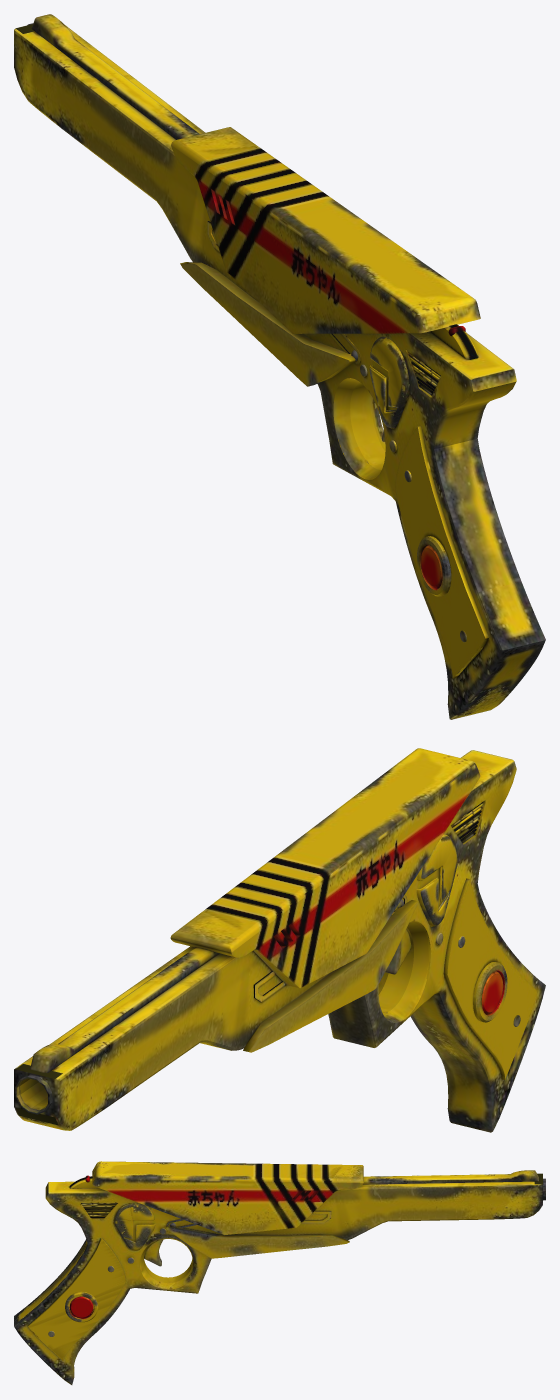
The model's file is Metallic-RougnessPBR-Gun.gltf.
The picture shows the model from 3 angles, top to bottom: view 1: azimuth 30°, elevation 25°; view 2: azimuth 150°, elevation 25°; view 3: azimuth 270°, elevation 25°; orthographic projection. The views are drawn at different scales.
Visible parts, largest first — view 1: Yellow_gun_1; view 2: Yellow_gun_1; view 3: Yellow_gun_1.
Boxes of the visible parts, box(x1,y1,x2,y2) form: Yellow_gun_1: box(14, 14, 545, 719); Yellow_gun_1: box(14, 748, 545, 1132); Yellow_gun_1: box(14, 1161, 545, 1384).
Bounding box in the file's own units: 0.5557 × 2.79 × 6.35.
